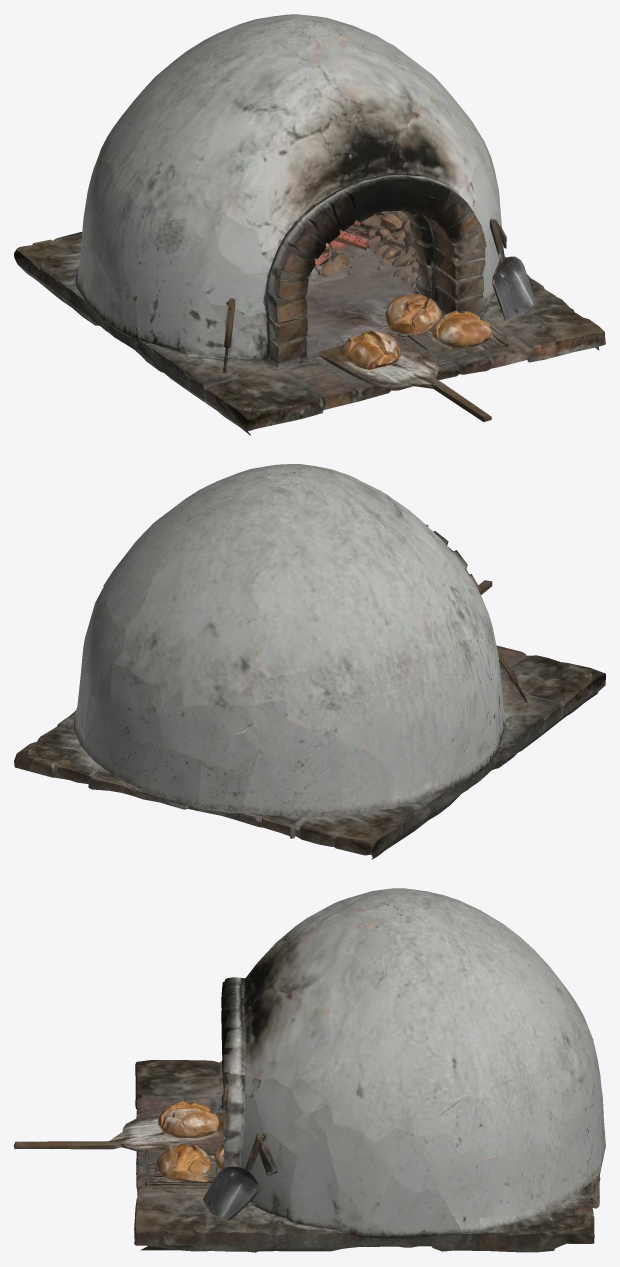
Rendered from realism-oven.glb.
3 renders of one model, top to bottom at view 1: azimuth 30°, elevation 25°; view 2: azimuth 150°, elevation 25°; view 3: azimuth 270°, elevation 25°, orthographic.
Parts seen in each view (by area): view 1: Mesh_0; view 2: Mesh_0; view 3: Mesh_0.
Boxes of the visible parts, left/top/right/bottom form: Mesh_0: left=14, top=14, right=605, bottom=435; Mesh_0: left=14, top=464, right=605, bottom=859; Mesh_0: left=14, top=888, right=605, bottom=1252.
Size of the model in its own units: 1.35 by 0.9435 by 1.9.
1 material, 1 textured.
